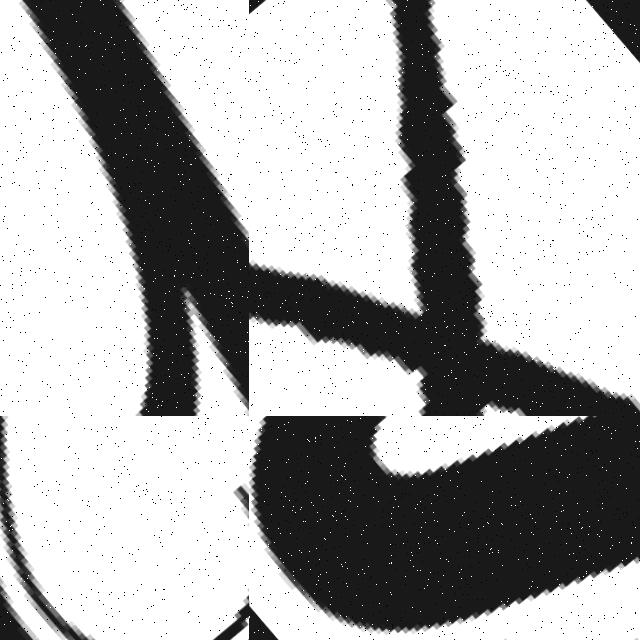2: (0, 416, 249, 640)
R: (0, 0, 249, 416)
S: (249, 416, 640, 640)
X: (249, 0, 640, 416)
